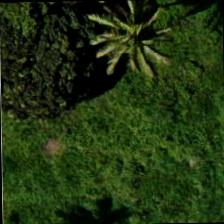Kelapa_Sawit: (78, 0, 171, 90), (84, 0, 176, 70)
